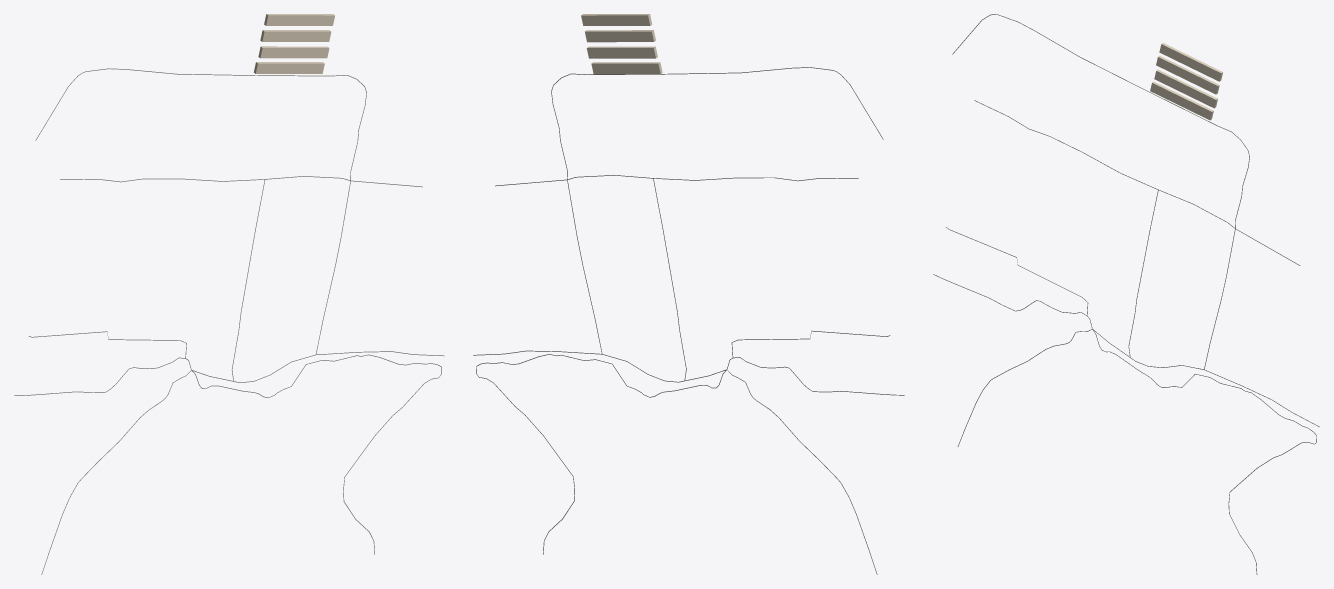
The model's file is historic-palestine-05_21_3468_3155.glb.
3 views of the same model, side by side, from view 1: azimuth 30°, elevation 25°; view 2: azimuth 150°, elevation 25°; view 3: azimuth 330°, elevation 25° (orthographic). The views are drawn at different scales.
Parts seen in each view (by area): view 1: Building_, Building_.001, Building_.003, Building_.002, Road .001; view 2: Building_, Building_.003, Building_.001, Building_.002, Road .001; view 3: Building_.003, Building_, Building_.001, Building_.002, Road .001.
Part boxes in pixels (<box>): Building_: <box>258,46,329,58</box>; Building_.001: <box>260,30,331,41</box>; Building_.003: <box>254,62,324,73</box>; Building_.002: <box>264,14,334,25</box>; Road .001: <box>35,68,366,354</box>; Building_: <box>586,46,657,58</box>; Building_.003: <box>591,62,662,74</box>; Building_.001: <box>585,30,655,42</box>; Building_.002: <box>581,14,652,25</box>; Road .001: <box>551,67,883,353</box>; Building_.003: <box>1150,81,1213,120</box>; Building_: <box>1154,69,1217,108</box>; Building_.001: <box>1156,55,1219,94</box>; Building_.002: <box>1159,43,1222,81</box>; Road .001: <box>952,14,1249,369</box>.
Bounding box in the file's own units: 936 × 1174 × 8.7.
